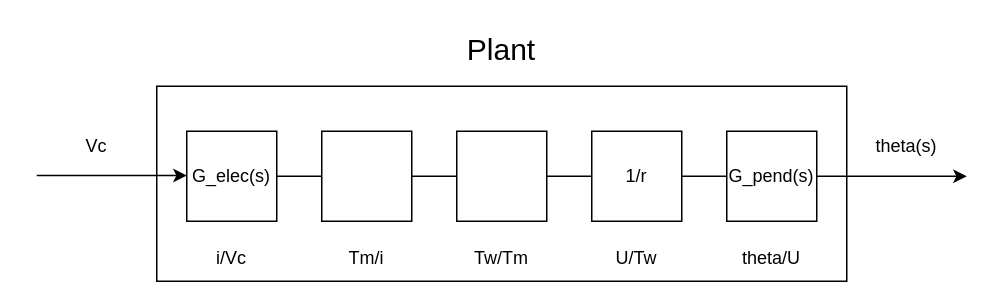
This 1005x308 diagram has some shape labels left out. The centre of each missing label's shape, as x and y in pixels:
"Gear Ratio" belongs at [501,175].
"K_t" belongs at [366,175].
